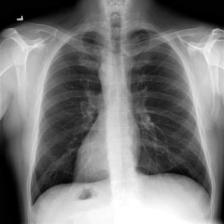normal: (21, 19, 216, 210)
